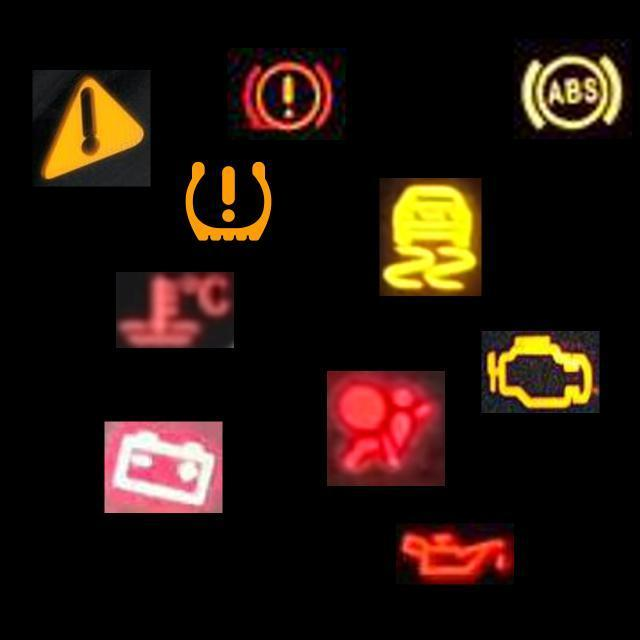Central Warning lamp: (32, 70, 150, 186)
Engine cooling system: (116, 272, 234, 348)
